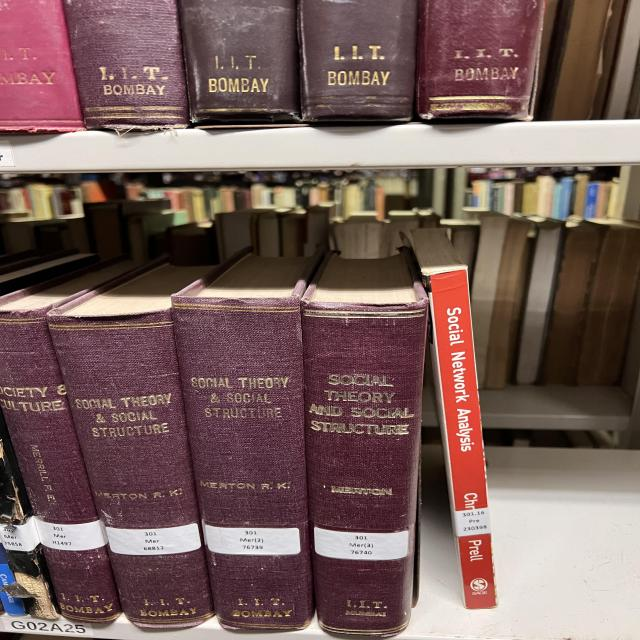Book: (47, 258, 213, 629), (172, 249, 320, 630), (0, 260, 137, 624), (302, 250, 428, 636), (408, 230, 497, 609), (63, 0, 188, 130), (417, 0, 545, 120), (180, 0, 300, 122), (298, 0, 418, 121), (0, 411, 60, 620)
Label: (313, 526, 408, 560), (105, 522, 202, 555), (203, 524, 300, 555), (35, 518, 107, 551), (0, 516, 40, 551), (453, 508, 490, 536)
